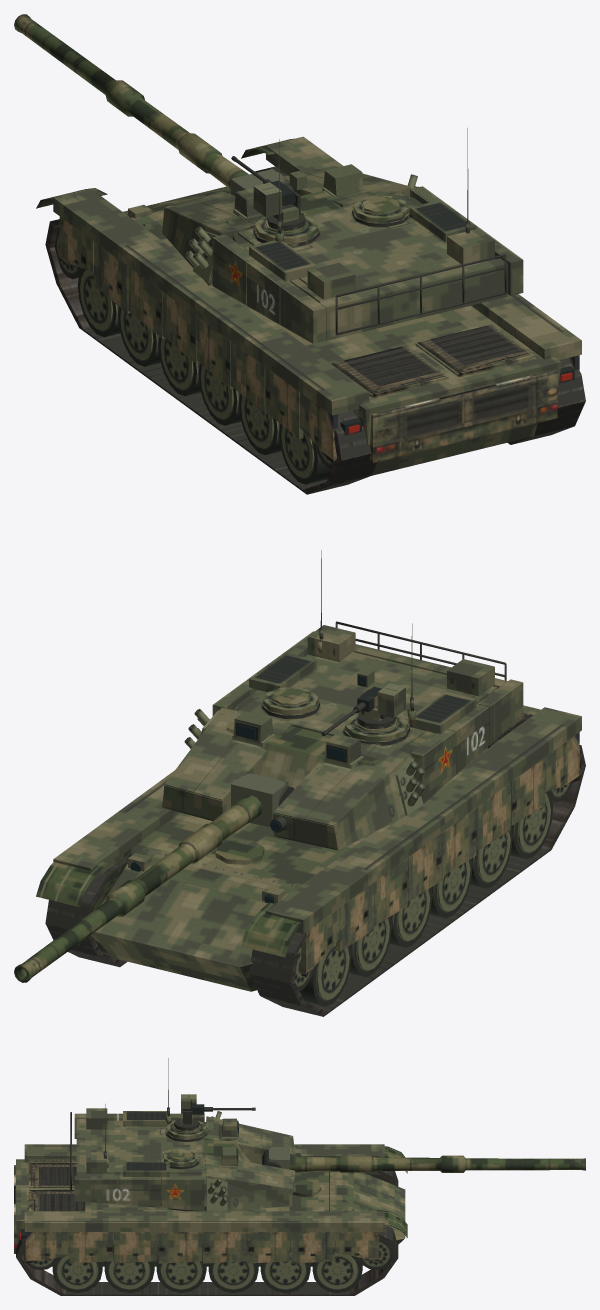
Rendered from ztz99a_4000.glb.
The picture shows the model from 3 angles, top to bottom: view 1: azimuth 30°, elevation 25°; view 2: azimuth 150°, elevation 25°; view 3: azimuth 270°, elevation 25°; orthographic projection. The views are drawn at different scales.
Visible parts, largest first — view 1: LOD4000_hull, LOD4000_turret, LOD4000_skirt_L, LOD4000_wheels_L, LOD4000_track_L, LOD4000_gun, LOD4000_track_R, LOD4000_mantlet; view 2: LOD4000_turret, LOD4000_hull, LOD4000_skirt_L, LOD4000_wheels_L, LOD4000_track_L, LOD4000_gun, LOD4000_track_R, LOD4000_mantlet; view 3: LOD4000_turret, LOD4000_hull, LOD4000_skirt_R, LOD4000_wheels_R, LOD4000_gun, LOD4000_track_R, LOD4000_mantlet.
Boxes of the visible parts, bbox=[...] form: LOD4000_hull: bbox=[36, 136, 581, 475]; LOD4000_turret: bbox=[162, 128, 523, 343]; LOD4000_skirt_L: bbox=[59, 216, 337, 464]; LOD4000_wheels_L: bbox=[54, 227, 333, 484]; LOD4000_track_L: bbox=[45, 219, 376, 494]; LOD4000_gun: bbox=[14, 14, 248, 189]; LOD4000_track_R: bbox=[255, 166, 585, 444]; LOD4000_mantlet: bbox=[231, 169, 293, 195]; LOD4000_turret: bbox=[162, 550, 523, 850]; LOD4000_hull: bbox=[36, 705, 581, 991]; LOD4000_skirt_L: bbox=[301, 732, 579, 976]; LOD4000_wheels_L: bbox=[294, 782, 572, 1006]; LOD4000_track_L: bbox=[249, 745, 585, 1016]; LOD4000_gun: bbox=[14, 795, 262, 982]; LOD4000_track_R: bbox=[45, 856, 127, 967]; LOD4000_mantlet: bbox=[231, 772, 293, 827]; LOD4000_turret: bbox=[70, 1058, 301, 1211]; LOD4000_hull: bbox=[14, 1144, 407, 1266]; LOD4000_skirt_R: bbox=[25, 1232, 378, 1263]; LOD4000_wheels_R: bbox=[23, 1238, 392, 1293]; LOD4000_gun: bbox=[290, 1155, 585, 1172]; LOD4000_track_R: bbox=[16, 1225, 398, 1295]; LOD4000_mantlet: bbox=[262, 1147, 289, 1169].
Bounding box in the file's own units: 3.55 × 4.14 × 10.89.
Materials: 1 (1 with a texture image).
